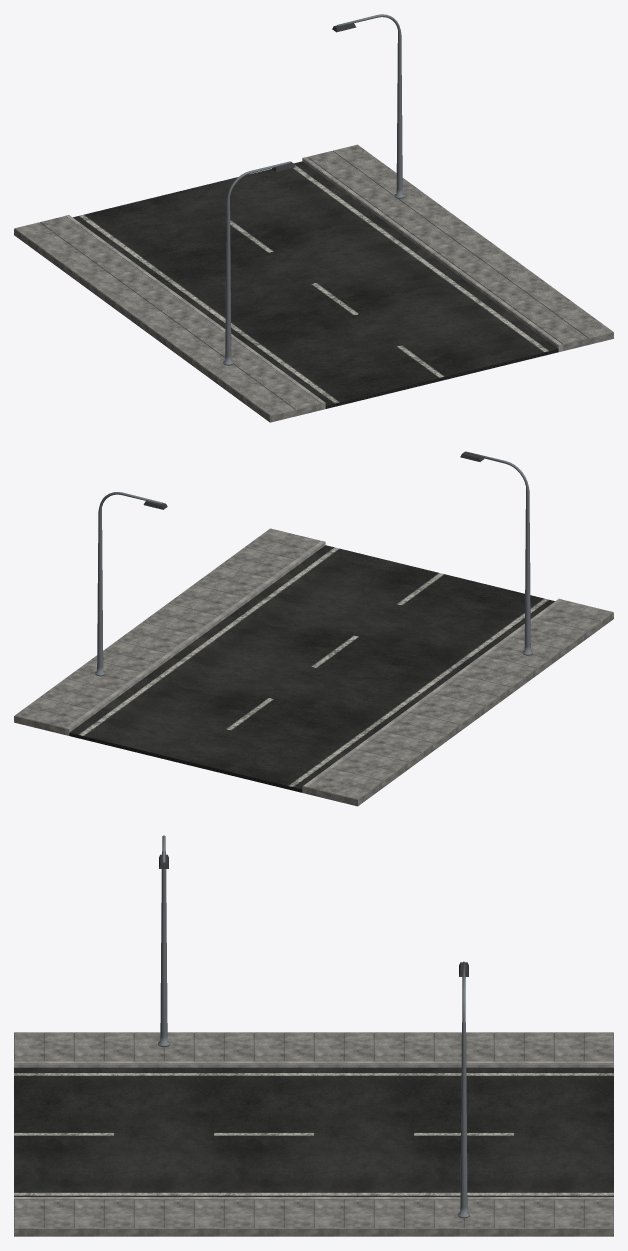
File: road4-edited.glb
The picture shows the model from 3 angles, top to bottom: view 1: azimuth 30°, elevation 25°; view 2: azimuth 150°, elevation 25°; view 3: azimuth 270°, elevation 25°; orthographic projection. The views are drawn at different scales.
Visible parts, largest first — view 1: Chunk_Asphalt, Chunk_Sidewalk_L, Chunk_Sidewalk_R, Chunk_Curb_R, Chunk_Curb_L, Lamp_L_Pole, Lamp_R_Pole; view 2: Chunk_Asphalt, Chunk_Sidewalk_L, Chunk_Sidewalk_R, Chunk_Curb_R, Chunk_Curb_L, Lamp_L_Pole, Lamp_R_Pole; view 3: Chunk_Asphalt, Chunk_Sidewalk_R, Chunk_Sidewalk_L, Chunk_Curb_L, Chunk_Curb_R, Lamp_R_Pole, Lamp_L_Pole.
Part boxes in pixels (x1,y1,x2,y2): Chunk_Asphalt: [73, 161, 558, 408]; Chunk_Sidewalk_L: [14, 216, 321, 422]; Chunk_Sidewalk_R: [307, 144, 613, 350]; Chunk_Curb_R: [302, 157, 562, 351]; Chunk_Curb_L: [65, 215, 325, 409]; Lamp_L_Pole: [223, 161, 290, 365]; Lamp_R_Pole: [337, 14, 404, 198]; Chunk_Asphalt: [69, 545, 554, 792]; Chunk_Sidewalk_L: [306, 600, 613, 806]; Chunk_Sidewalk_R: [14, 528, 320, 734]; Chunk_Curb_R: [65, 540, 325, 735]; Chunk_Curb_L: [302, 598, 562, 793]; Lamp_L_Pole: [465, 451, 532, 655]; Lamp_R_Pole: [95, 492, 162, 676]; Chunk_Asphalt: [14, 1067, 613, 1196]; Chunk_Sidewalk_R: [14, 1199, 613, 1236]; Chunk_Sidewalk_L: [14, 1032, 613, 1061]; Chunk_Curb_L: [14, 1061, 613, 1067]; Chunk_Curb_R: [14, 1197, 613, 1199]; Lamp_R_Pole: [458, 961, 469, 1218]; Lamp_L_Pole: [158, 835, 169, 1046].
Size of the model in its own units: 15.5 by 8.35 by 20.
Materials: 6 (3 with a texture image).
